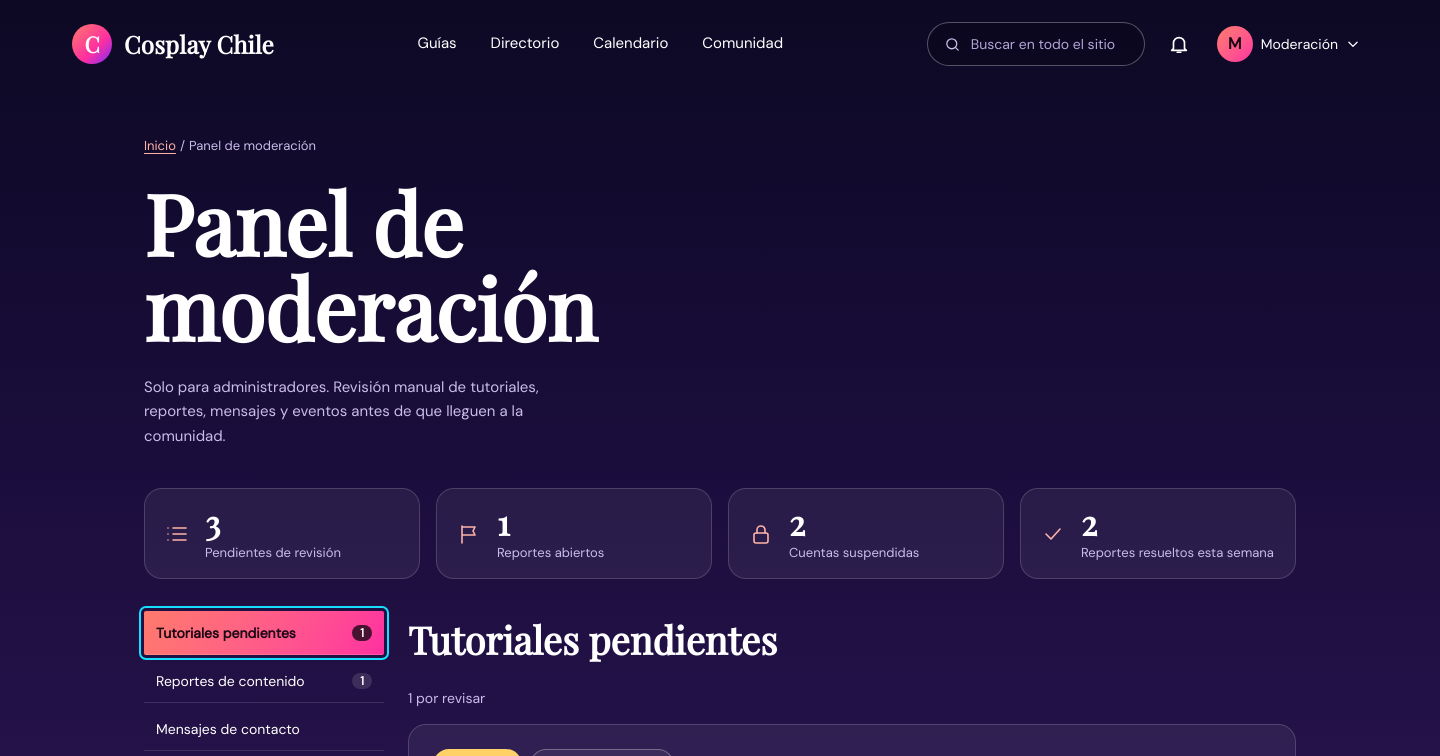
it: Panel de moderación › las secciones se recorren con flechas y resuelve un reporte con «Ocultar y suspender»
Step 1. Press Arrowdown
(page scrolled)
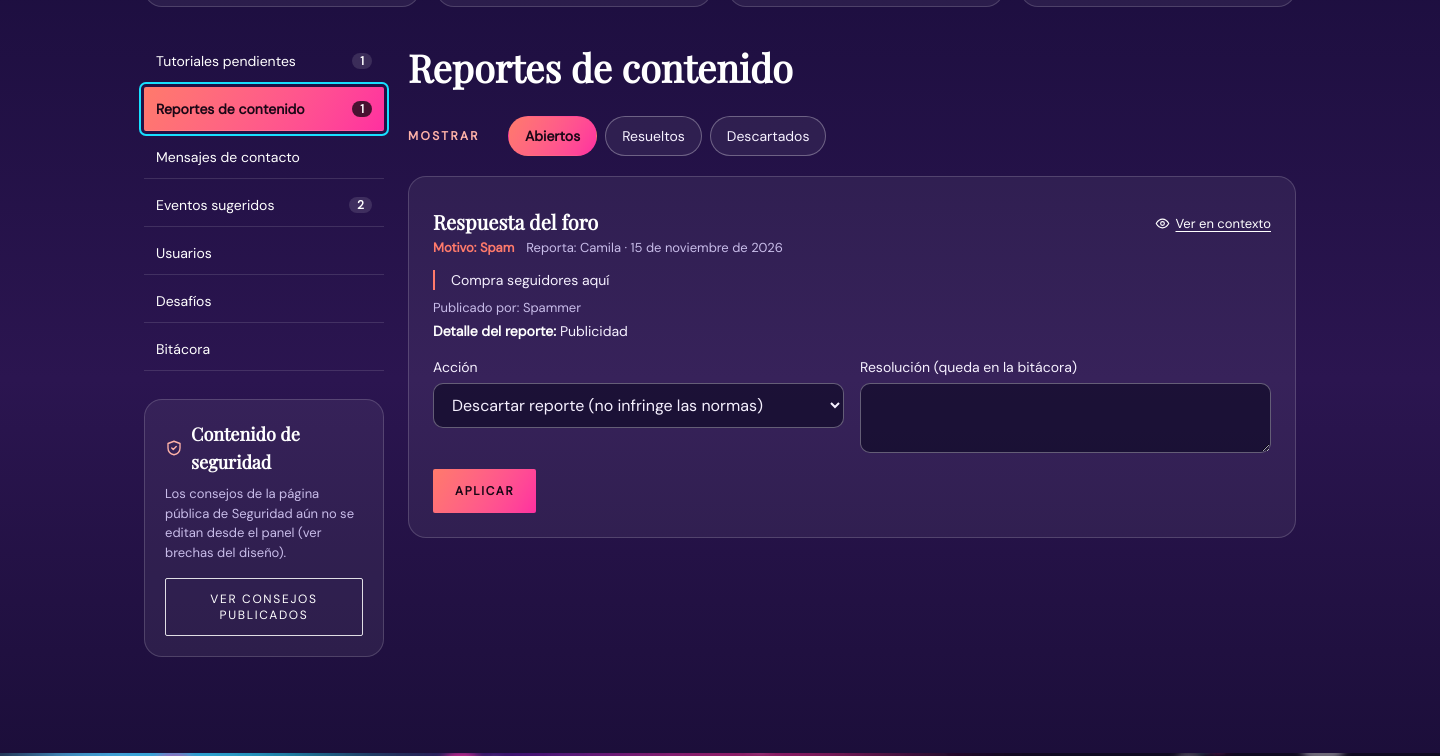
Now the text "Compra seguidores aquí" is shown, box 433,270 -> 1271,290
Step 2. Select "Ocultar y suspender a quien lo publicó" in the dropdown labelled "Acción" → {"x": 638, "y": 406}, box 433,384 -> 844,428
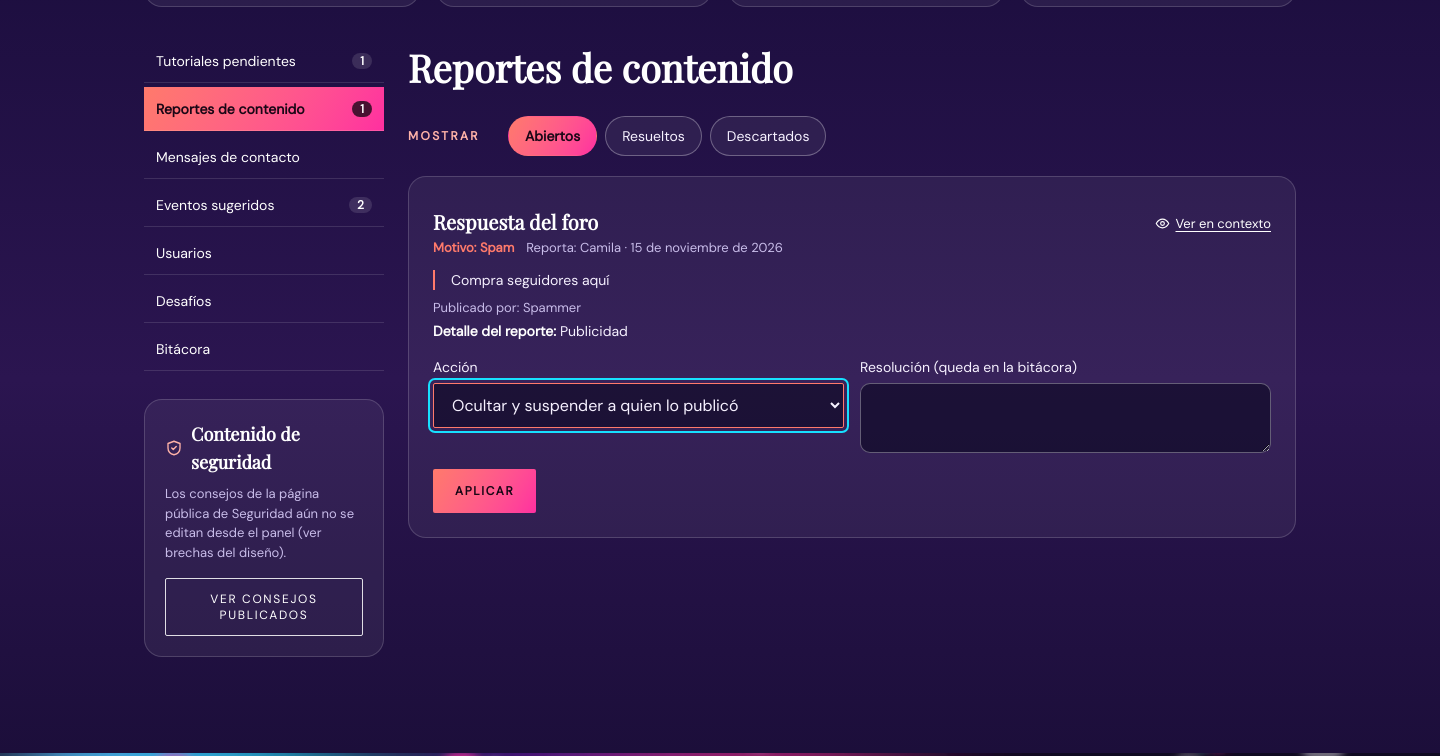
Step 3. Type "Spam reiterado" into the text box labelled "Resolución (queda en la bitácora)" → {"x": 1066, "y": 418}, box 860,384 -> 1271,454
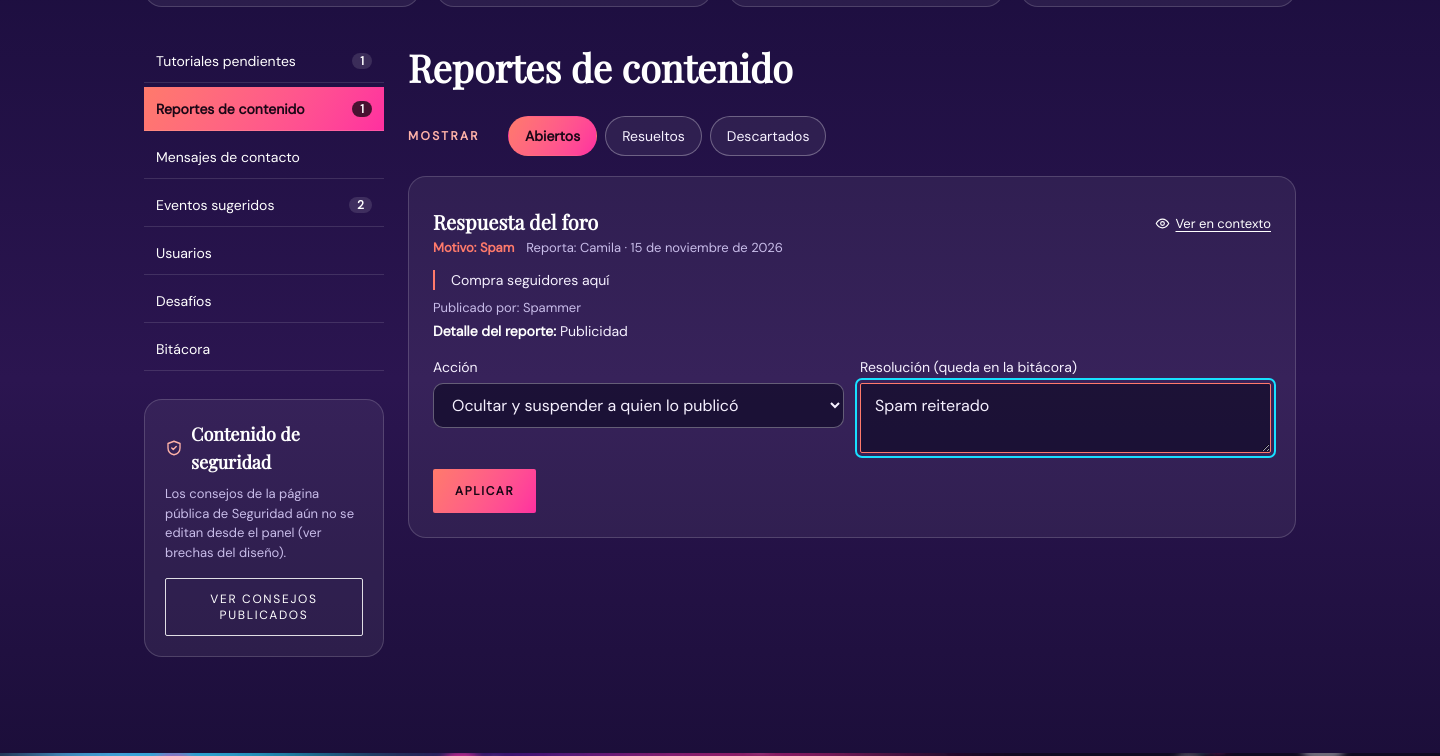
Step 4. Click the button "Aplicar" → {"x": 485, "y": 492}, box 433,470 -> 536,514
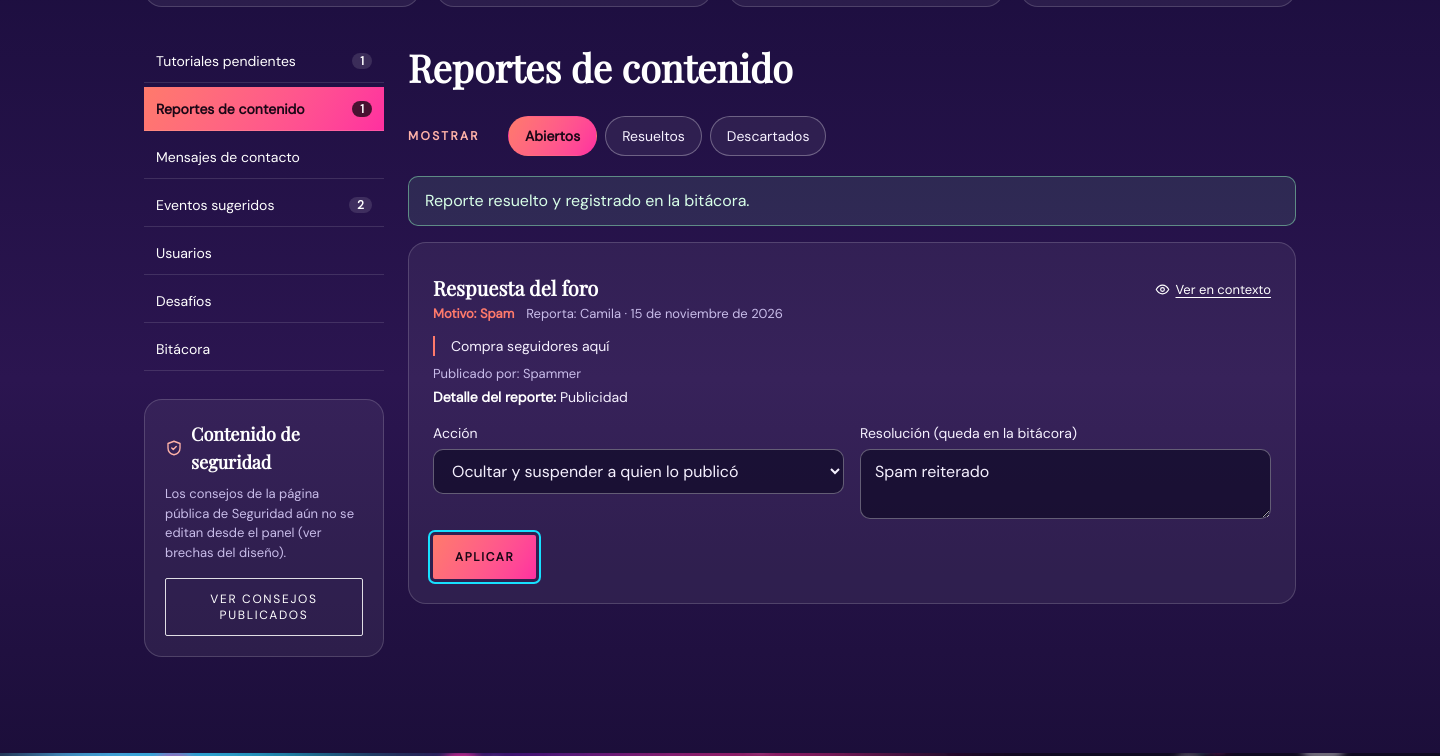
Now the text "Reporte resuelto y registrado en la bitácora." is shown, box 408,176 -> 1296,226
